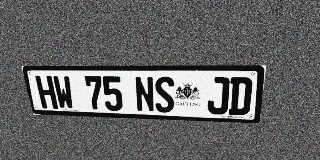5: (102, 76, 124, 111)
7: (83, 76, 106, 111)
D: (228, 77, 253, 115)
H: (35, 76, 58, 109)
J: (207, 77, 230, 115)
N: (134, 76, 155, 112)
S: (154, 76, 175, 113)
W: (52, 76, 75, 109)
